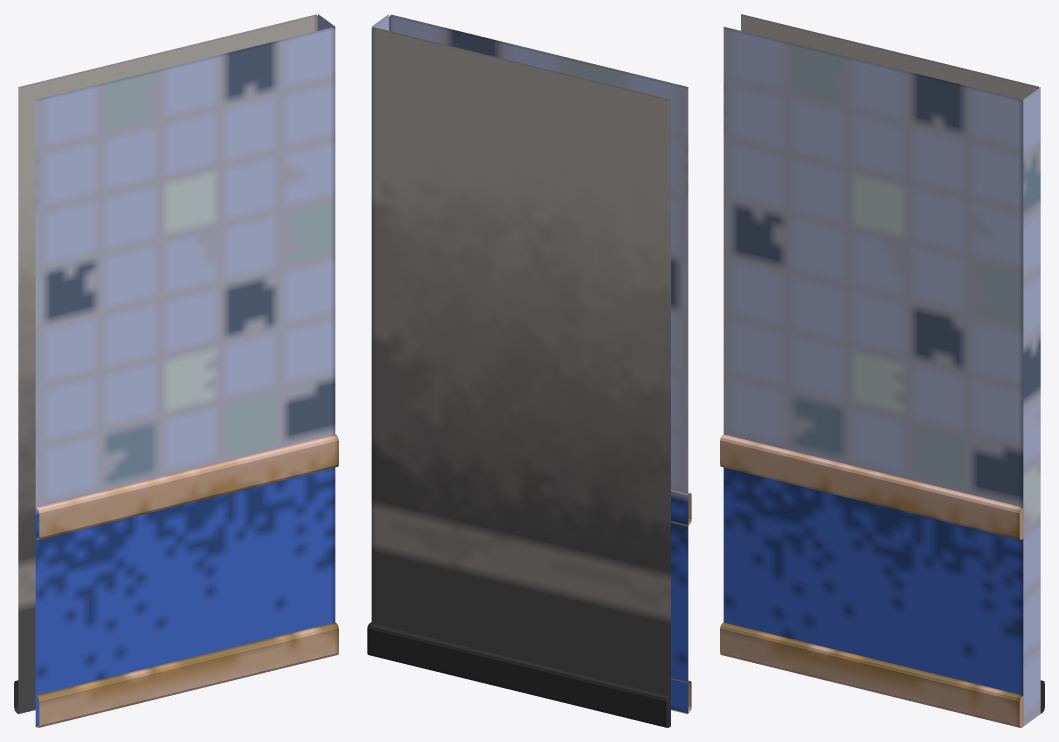
The model's file is Wall_TipoC_3.fbx.
The picture shows the model from 3 angles, left to right: view 1: azimuth 30°, elevation 25°; view 2: azimuth 150°, elevation 25°; view 3: azimuth 330°, elevation 25°; orthographic projection.
Visible parts, largest first — view 1: Cube.126, Cube.073, Cube.127; view 2: Cube.126, Cube.071; view 3: Cube.126, Cube.073, Cube.127.
Boxes of the visible parts, bbox=[...] form: Cube.126: bbox=[18, 14, 335, 726]; Cube.073: bbox=[35, 622, 338, 727]; Cube.127: bbox=[35, 434, 338, 539]; Cube.126: bbox=[371, 14, 688, 725]; Cube.071: bbox=[367, 622, 670, 727]; Cube.126: bbox=[723, 14, 1040, 725]; Cube.073: bbox=[720, 622, 1023, 727]; Cube.127: bbox=[720, 434, 1023, 539].
Size of the model in its own units: 200 by 400 by 28.98.
